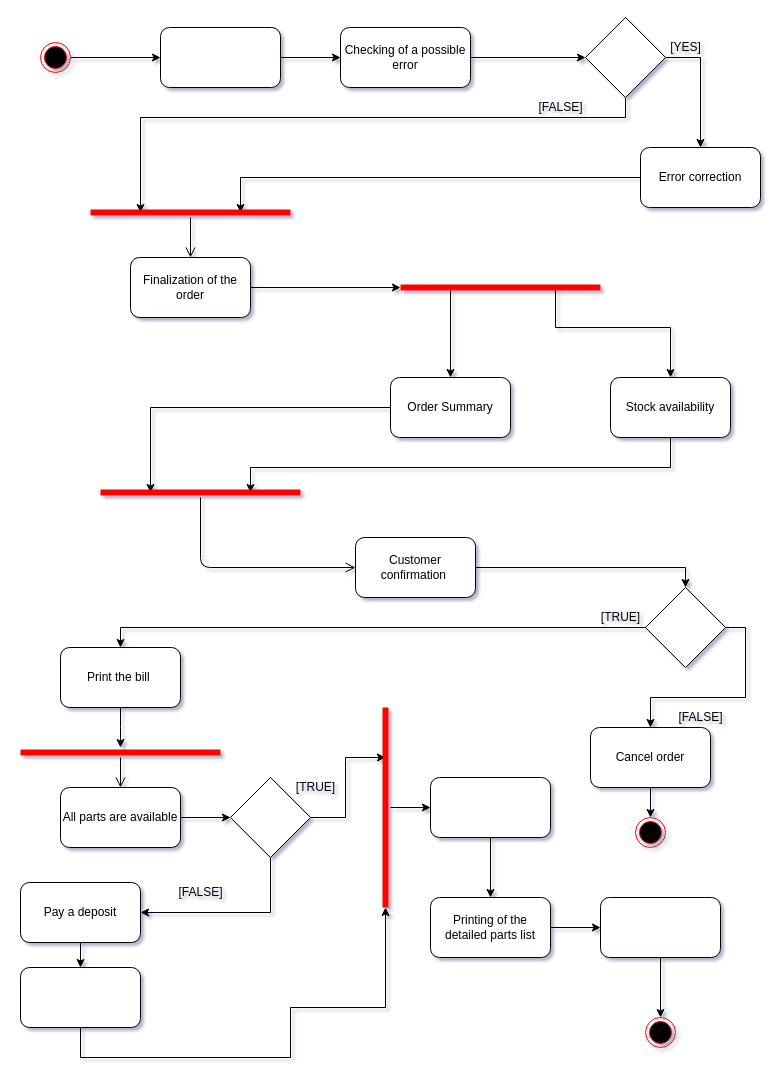
This 784x1089 diagram has some shape labels left out. The centre of each missing label's shape, as x and y in pixels:
"Paid order" belongs at (490,807).
"Receipt of customer's order in the store" belongs at (220,57).
"The customer can leave with his order" belongs at (660,927).
"Wait 1 week" belongs at (80,997).
